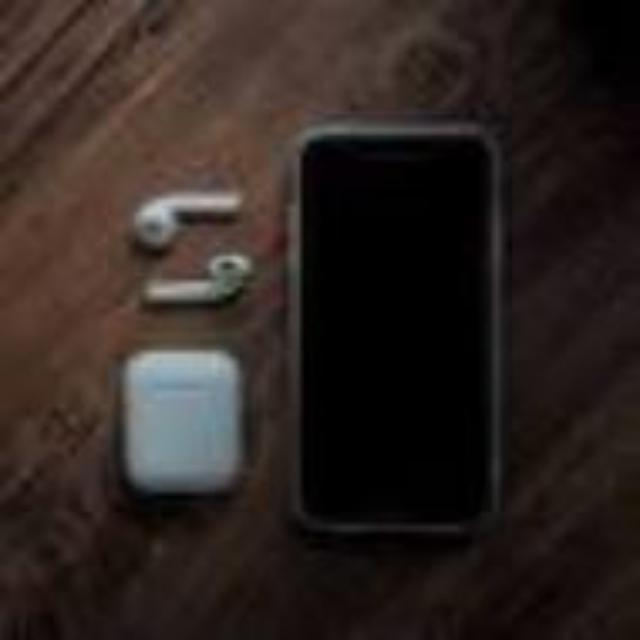phone: (248, 113, 549, 570)
